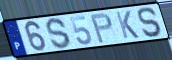5: (68, 15, 93, 46)
6: (25, 20, 48, 53)
K: (114, 10, 141, 40)
P: (89, 12, 114, 45)
S: (137, 6, 165, 39), (45, 17, 72, 51)
